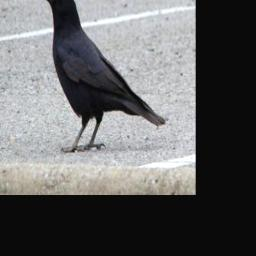Crow: (37, 0, 167, 153)
